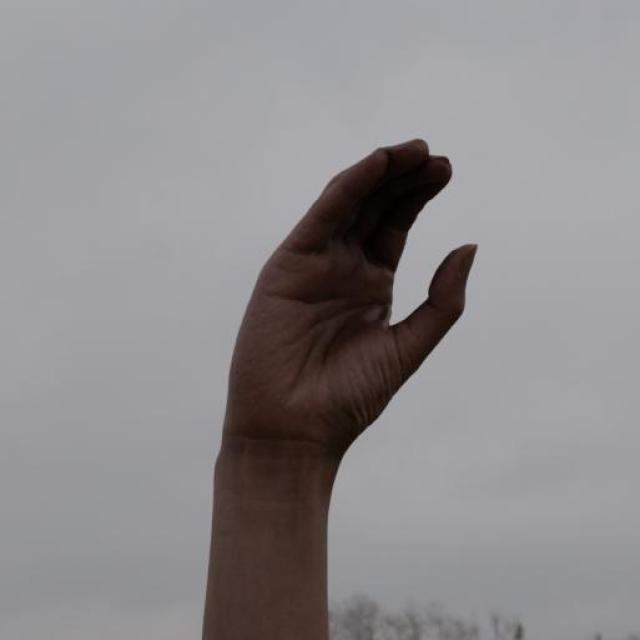C: (218, 135, 483, 456)
